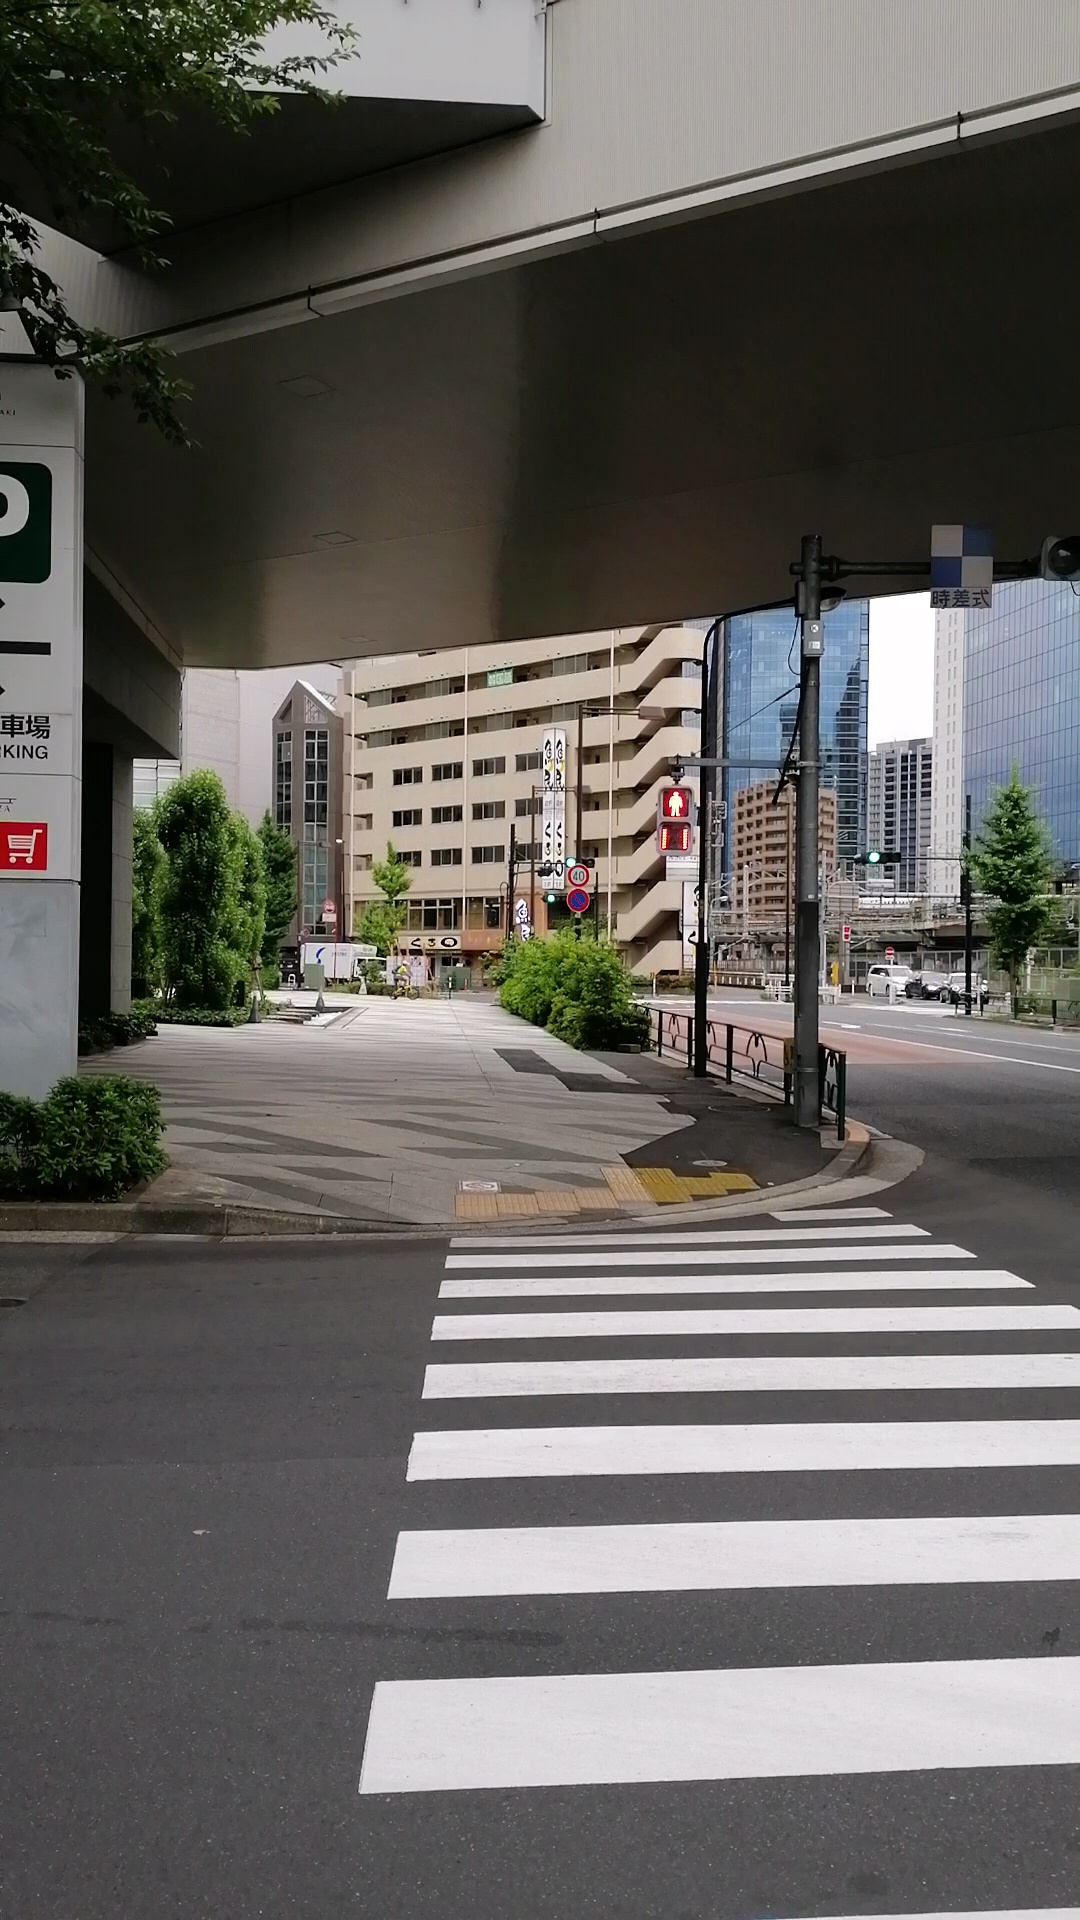red: (657, 785, 694, 856)
